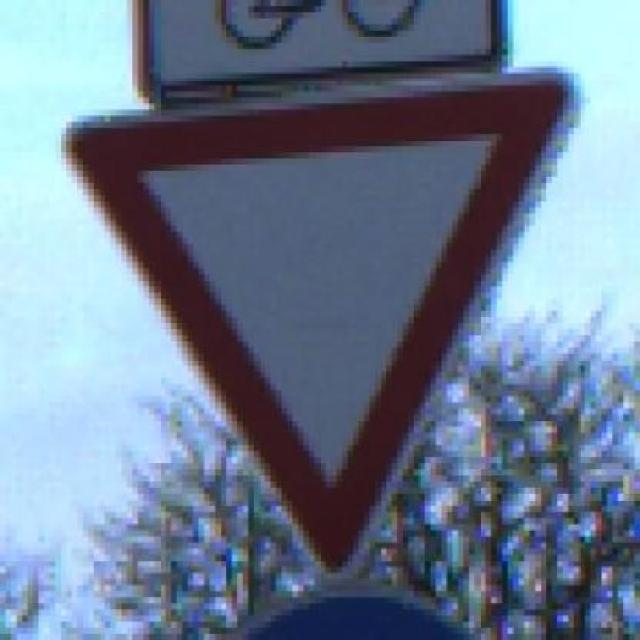Give Way: (32, 67, 630, 585)
